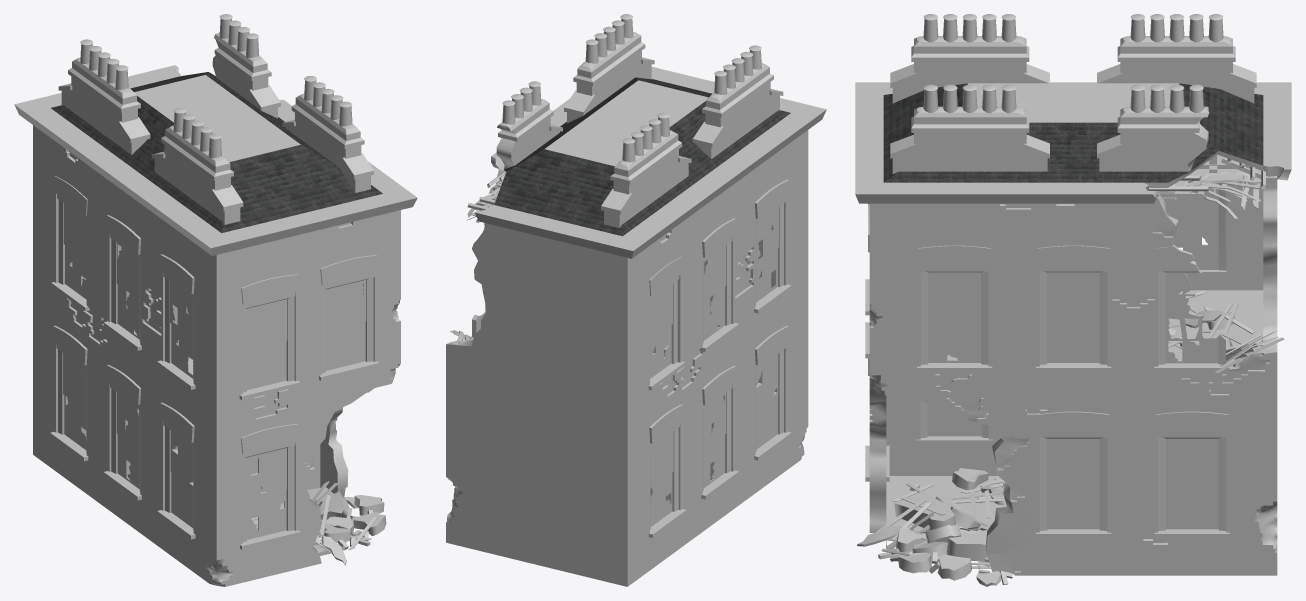
File: Backup.fbx
3 views of the same model, side by side, from view 1: azimuth 30°, elevation 25°; view 2: azimuth 150°, elevation 25°; view 3: azimuth 270°, elevation 25° (orthographic). The views are drawn at different scales.
Visible parts, largest first — view 1: LODGroup_1_MainMesh_1_SubMesh_6, LODGroup_1_MainMesh_1_SubMesh_1, LODGroup_1_MainMesh_1_SubMesh_3, LODGroup_1_MainMesh_1_SubMesh_2, LODGroup_1_MainMesh_1_SubMesh_4, LODGroup_1_MainMesh_1_SubMesh_5; view 2: LODGroup_1_MainMesh_1_SubMesh_6, LODGroup_1_MainMesh_1_SubMesh_1, LODGroup_1_MainMesh_1_SubMesh_3, LODGroup_1_MainMesh_1_SubMesh_2, LODGroup_1_MainMesh_1_SubMesh_4; view 3: LODGroup_1_MainMesh_1_SubMesh_6, LODGroup_1_MainMesh_1_SubMesh_1, LODGroup_1_MainMesh_1_SubMesh_4, LODGroup_1_MainMesh_1_SubMesh_3, LODGroup_1_MainMesh_1_SubMesh_2, LODGroup_1_MainMesh_1_SubMesh_5.
Part boxes in pixels (<box>): LODGroup_1_MainMesh_1_SubMesh_6: <box>14,65,417,586</box>; LODGroup_1_MainMesh_1_SubMesh_1: <box>53,14,376,542</box>; LODGroup_1_MainMesh_1_SubMesh_3: <box>24,68,407,563</box>; LODGroup_1_MainMesh_1_SubMesh_2: <box>51,72,382,232</box>; LODGroup_1_MainMesh_1_SubMesh_4: <box>66,67,400,586</box>; LODGroup_1_MainMesh_1_SubMesh_5: <box>65,245,363,493</box>; LODGroup_1_MainMesh_1_SubMesh_6: <box>446,66,826,586</box>; LODGroup_1_MainMesh_1_SubMesh_1: <box>472,14,788,529</box>; LODGroup_1_MainMesh_1_SubMesh_3: <box>470,70,816,338</box>; LODGroup_1_MainMesh_1_SubMesh_2: <box>494,77,790,236</box>; LODGroup_1_MainMesh_1_SubMesh_4: <box>446,138,804,523</box>; LODGroup_1_MainMesh_1_SubMesh_6: <box>855,82,1291,584</box>; LODGroup_1_MainMesh_1_SubMesh_1: <box>868,14,1256,530</box>; LODGroup_1_MainMesh_1_SubMesh_4: <box>857,124,1291,586</box>; LODGroup_1_MainMesh_1_SubMesh_3: <box>858,83,1283,565</box>; LODGroup_1_MainMesh_1_SubMesh_2: <box>883,83,1263,182</box>; LODGroup_1_MainMesh_1_SubMesh_5: <box>886,182,1263,526</box>.
Size of the model in its own units: 565 by 1081 by 892.
